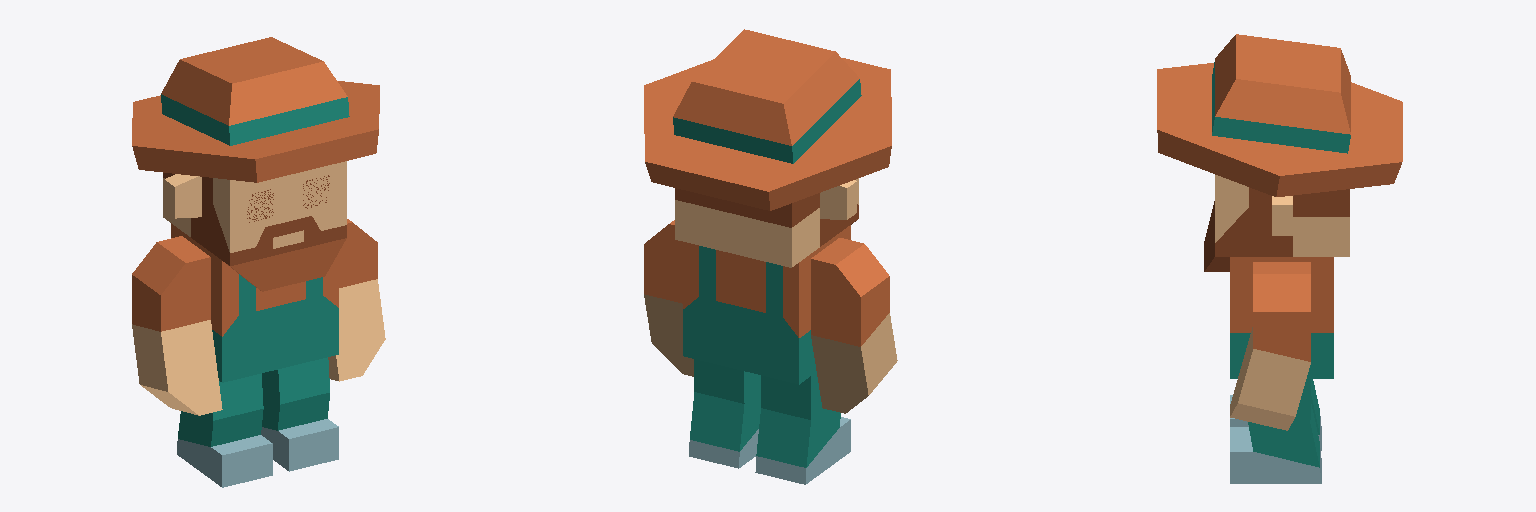
File: digger.obj
The picture shows the model from 3 angles: view 1: azimuth 30°, elevation 25°; view 2: azimuth 150°, elevation 25°; view 3: azimuth 270°, elevation 25°; orthographic projection.
Visible parts, largest first — view 1: head, armRight, body, legRight, legLeft, armLeft; view 2: head, body, armRight, legRight, legLeft, armLeft; view 3: head, armLeft, legLeft, body.
Part boxes in pixels (x1,y1,x2,y2): head: (132, 37, 379, 291); armRight: (132, 236, 222, 415); body: (171, 223, 338, 382); legRight: (177, 373, 272, 487); legLeft: (261, 357, 338, 471); armLeft: (328, 219, 385, 381); head: (644, 29, 891, 267); body: (683, 225, 850, 384); armRight: (811, 238, 897, 413); legRight: (755, 372, 850, 484); legLeft: (689, 359, 760, 468); armLeft: (644, 220, 693, 376); head: (1157, 34, 1402, 271); armLeft: (1230, 262, 1310, 430); legLeft: (1230, 379, 1321, 483); body: (1230, 257, 1333, 378).
Size of the model in its own units: 0.5516 by 0.8487 by 0.4727.